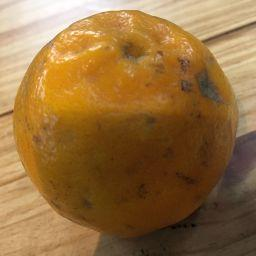Unripe: (15, 13, 240, 236)
